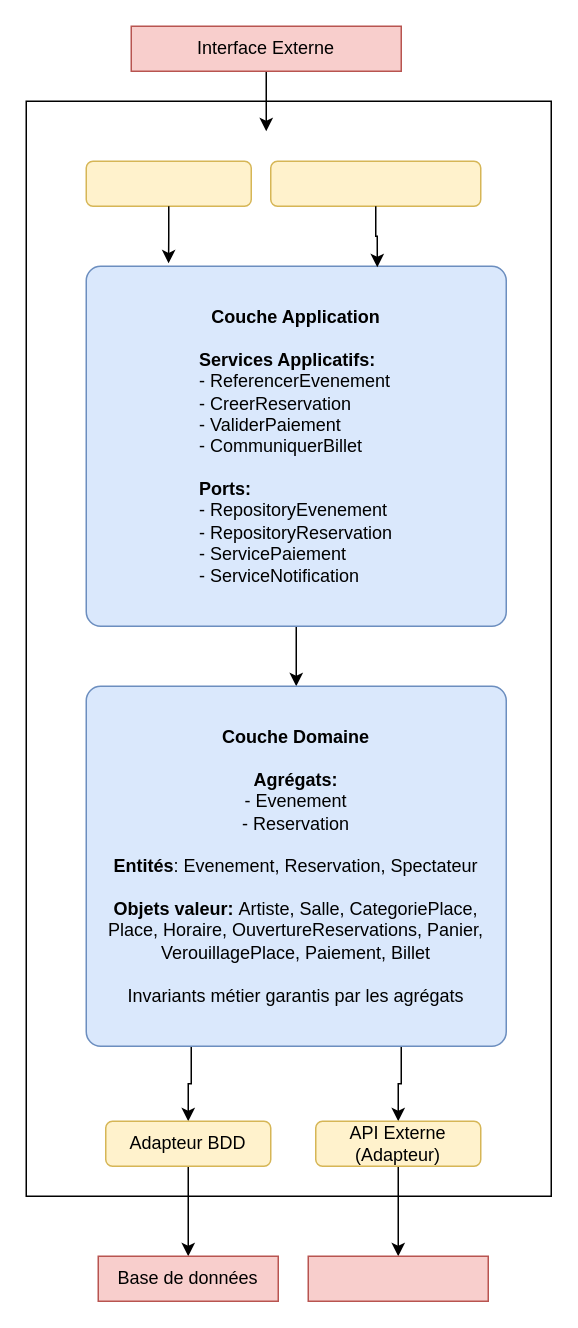
The diagram is 578 pixels wide and 1328 high, and some of its shapes have lost their labels. Here are the shapes that lost their labels. From the top down, the centre of each, then its label:
(168,183): Adapteur REST API
(375,183): Adapteur File d'attente broker / queue
(397,1278): API Externe (Port)
